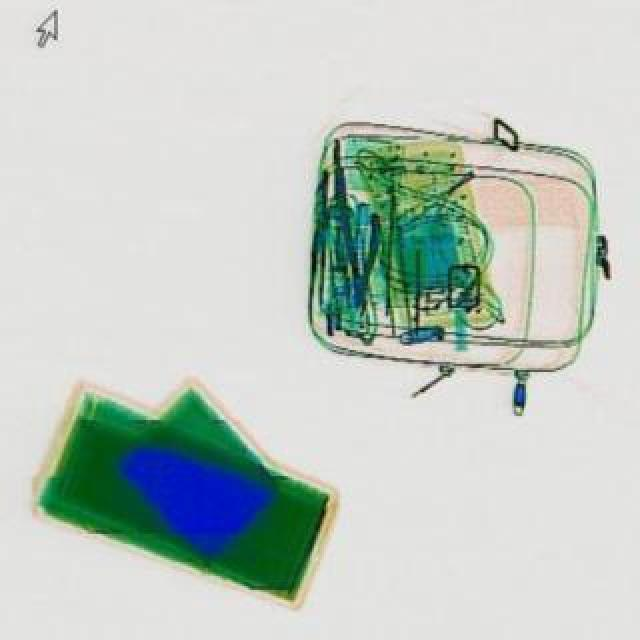wrench: (344, 212, 384, 314)
